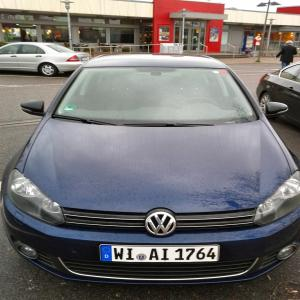Vehicle-registration-plate: (100, 245, 223, 265)
